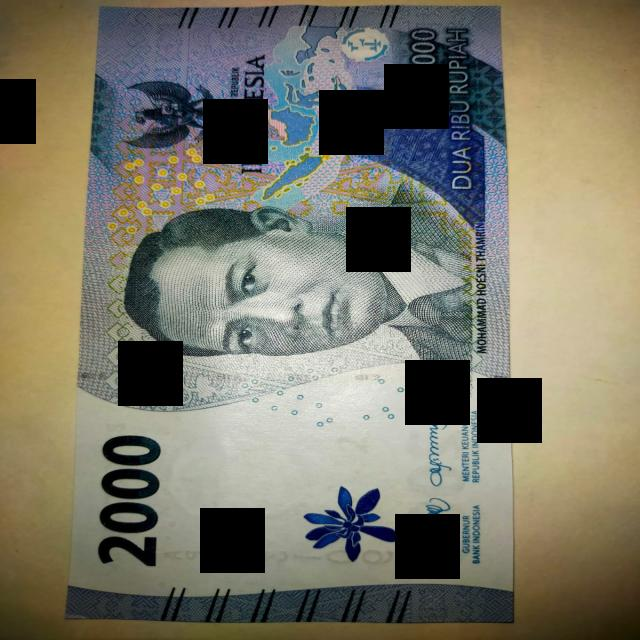dua ribu rupiah: (67, 5, 513, 624)
